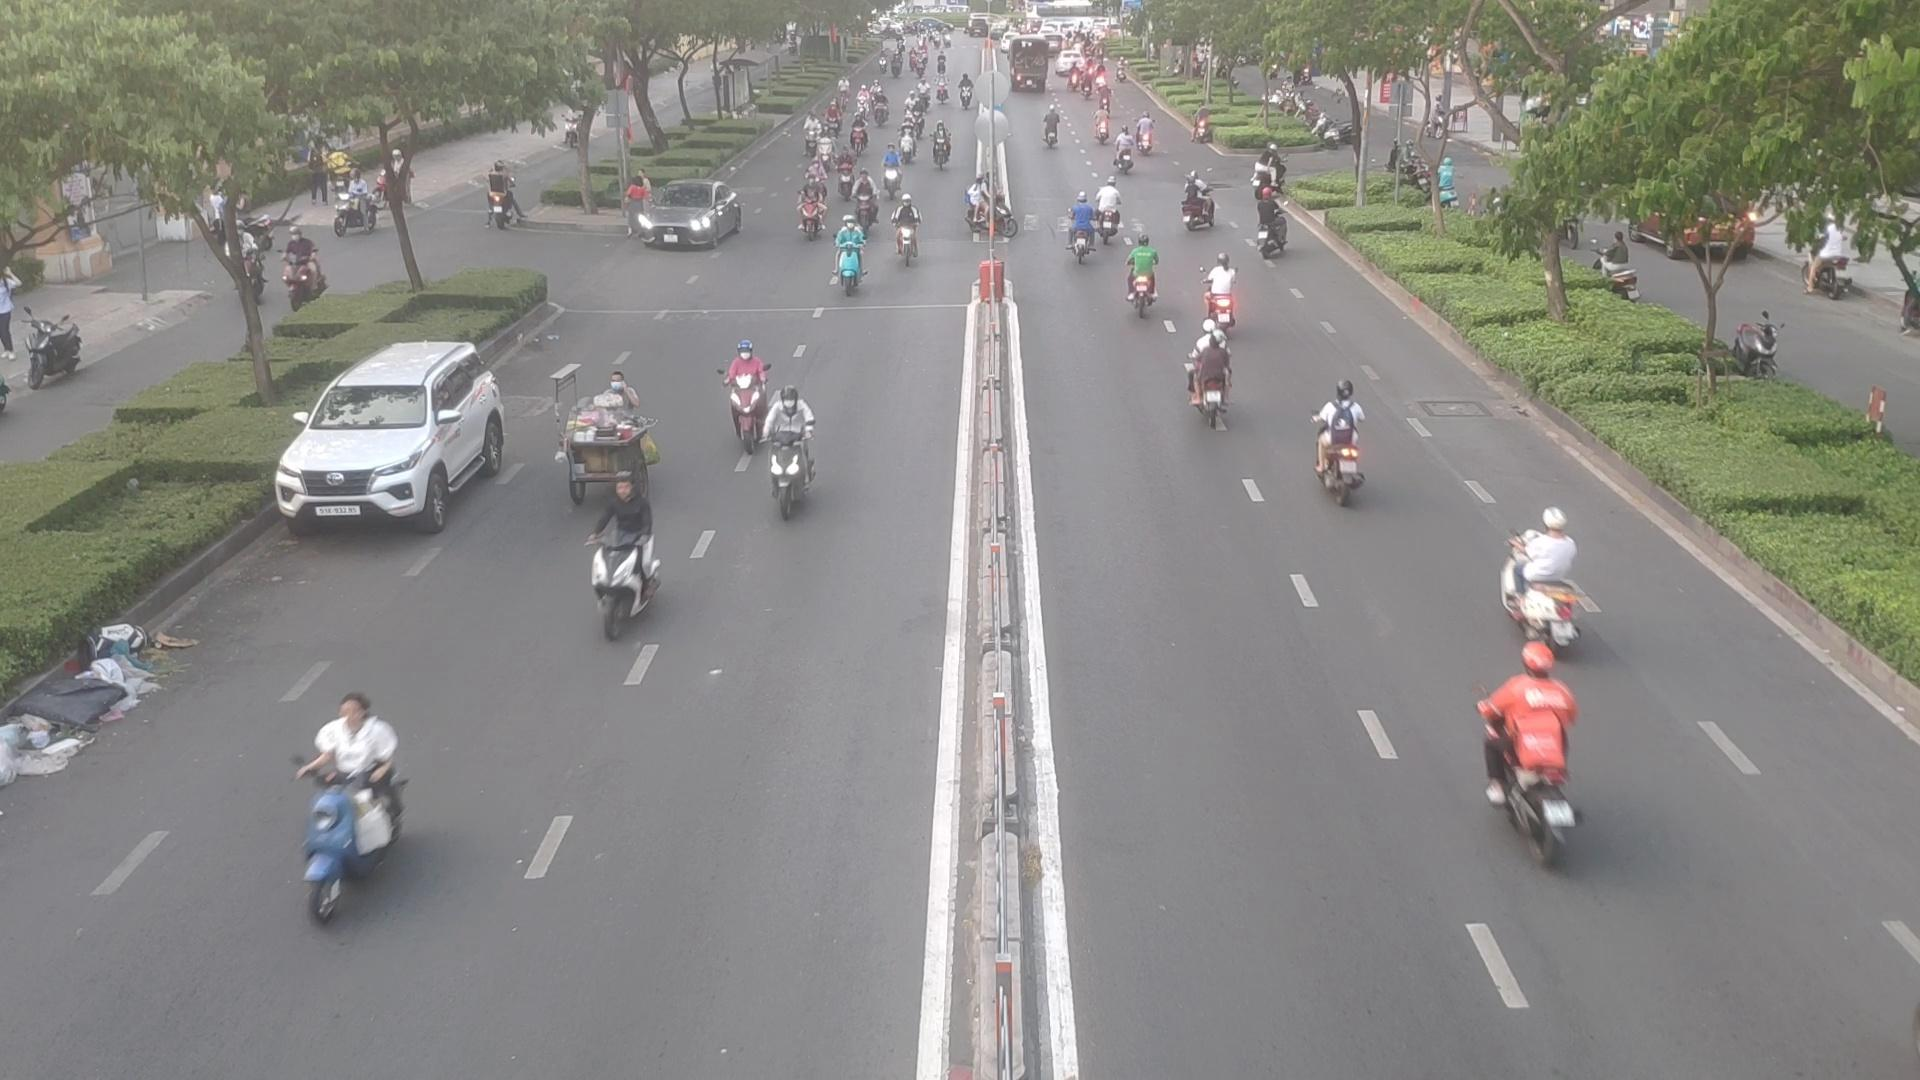car: (280, 338, 522, 527), (622, 186, 750, 255)
motorbike: (294, 695, 419, 911), (1466, 665, 1592, 858), (746, 384, 828, 520), (585, 501, 669, 626), (1313, 388, 1382, 497), (1502, 512, 1588, 593), (1187, 328, 1246, 423), (1060, 194, 1116, 266), (827, 218, 876, 295), (1124, 237, 1167, 316), (1203, 256, 1246, 327), (1257, 200, 1298, 262), (1178, 174, 1218, 231), (796, 189, 829, 240), (1106, 133, 1135, 173)
